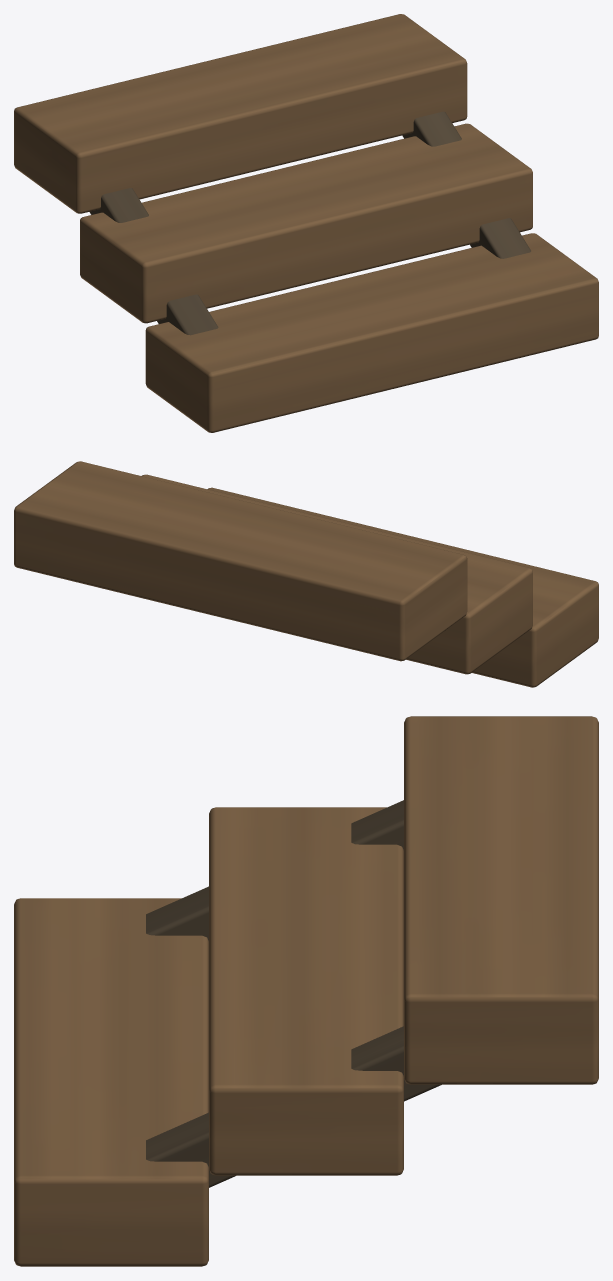
File: stairs.glb
3 renders of one model, top to bottom at view 1: azimuth 30°, elevation 25°; view 2: azimuth 150°, elevation 25°; view 3: azimuth 270°, elevation 25°, orthographic. The views are drawn at different scales.
Parts seen in each view (by area): view 1: Wooden Steps; view 2: Wooden Steps; view 3: Wooden Steps.
Part boxes in pixels (box(x1,y1,x2,y2)): Wooden Steps: box(14, 14, 598, 432); Wooden Steps: box(14, 461, 598, 687); Wooden Steps: box(14, 716, 598, 1266).
Size of the model in its own units: 1.2 by 0.54 by 1.05.
Materials: 2 (2 with a texture image).
